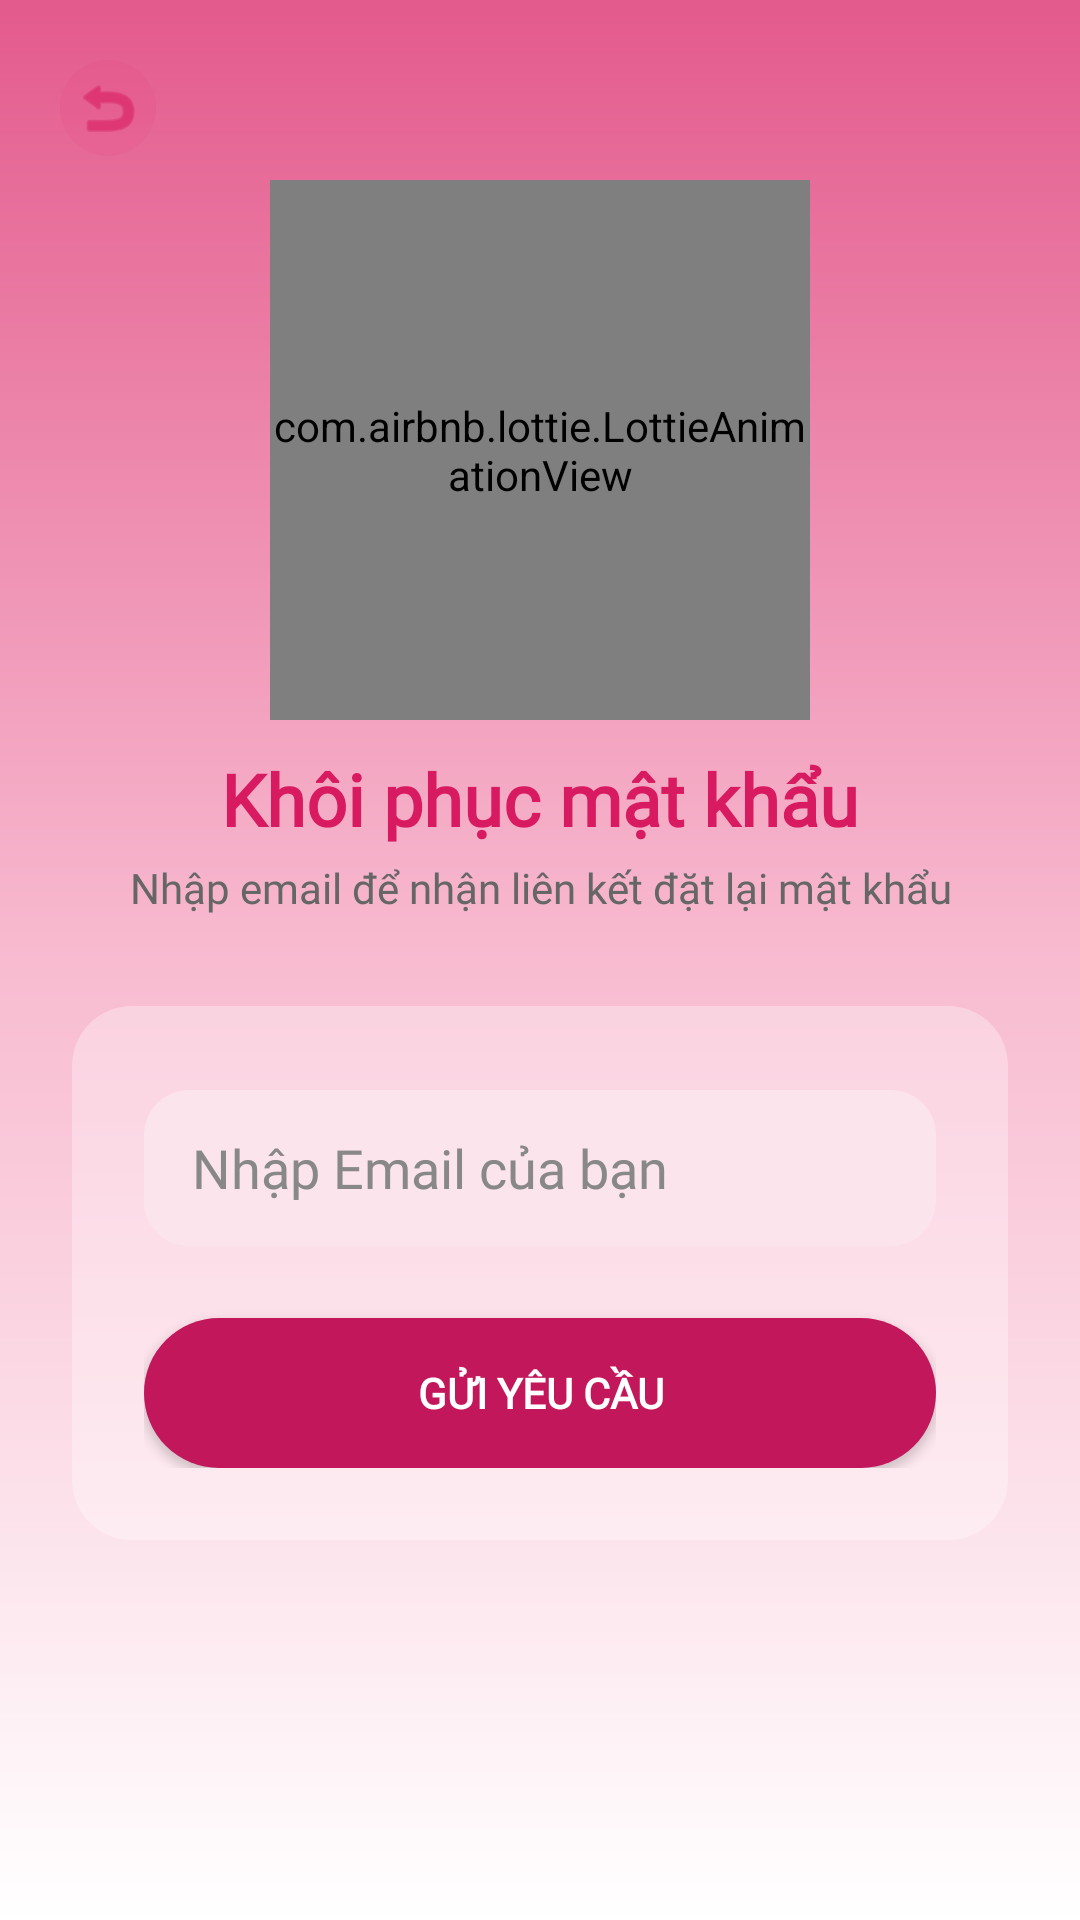

Screen size 1080 × 1920. Icon name, then its center in pixels as point (x, y):
revert: point (108, 108)
